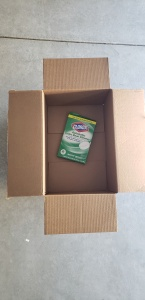innerbox: (43, 89, 117, 193)
outerbox: (9, 59, 145, 233)
product: (57, 109, 97, 166)
